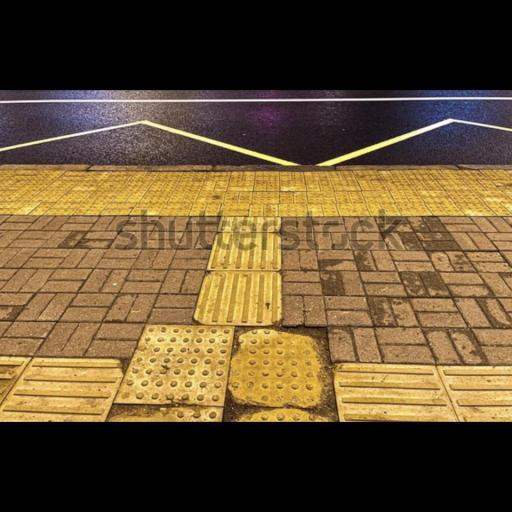dot: (114, 327, 235, 407)
line: (332, 364, 462, 423), (190, 270, 280, 324)
